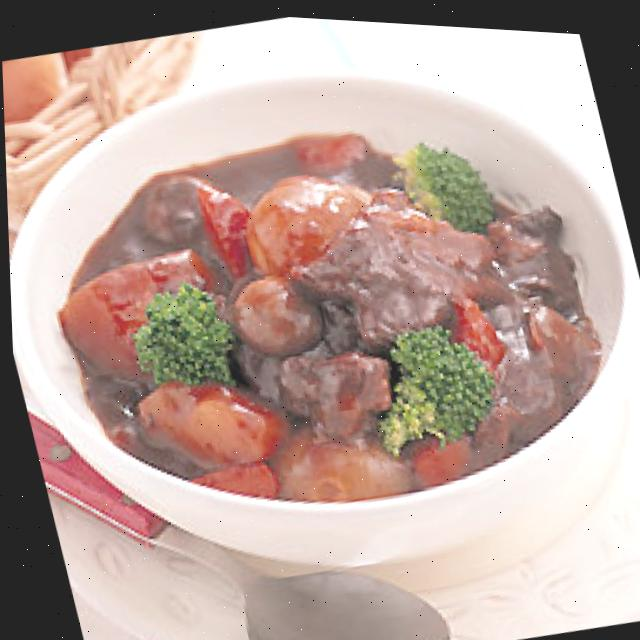汤锅炖物: (0, 0, 640, 630)
